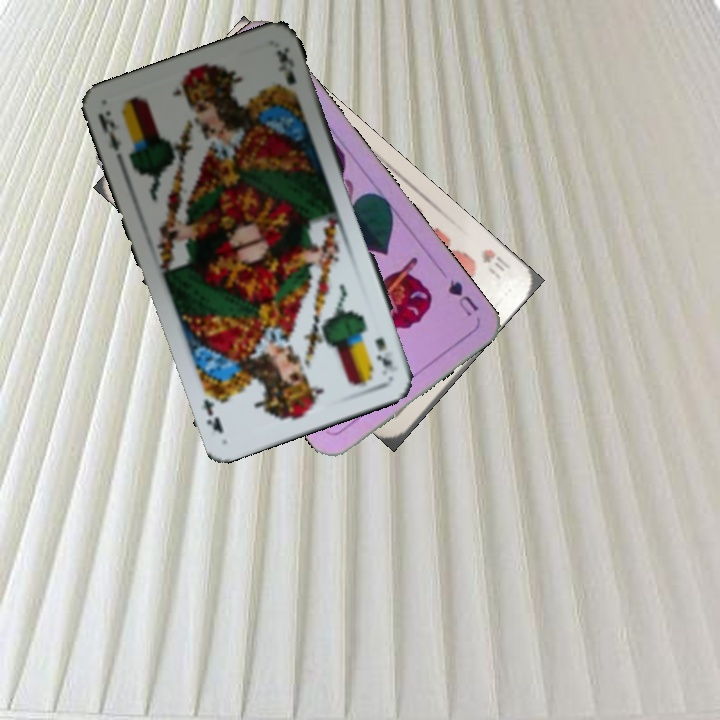EK: (94, 109, 125, 154), (370, 333, 396, 371)
GU: (444, 275, 482, 319)
H10: (477, 244, 514, 282)
